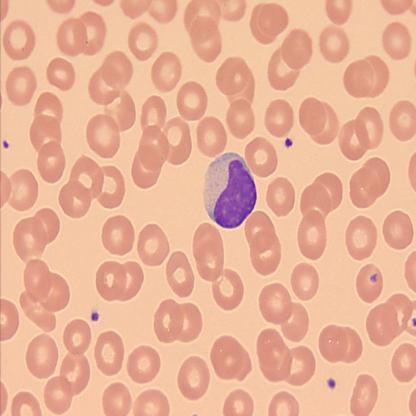Lymphocyte: (203, 151, 258, 229)
